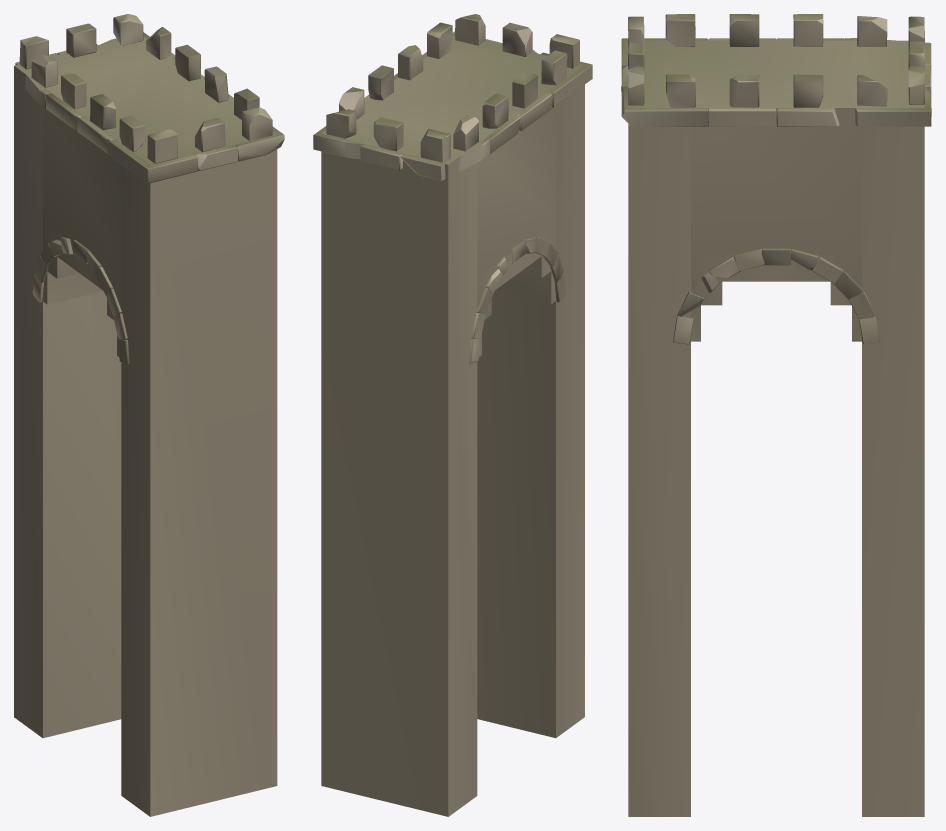
File: bridge_tower.glb
3 views of the same model, side by side, from view 1: azimuth 30°, elevation 25°; view 2: azimuth 150°, elevation 25°; view 3: azimuth 270°, elevation 25° (orthographic). The views are drawn at different scales.
Parts seen in each view (by area): view 1: bridge_tower_far, bridge_tower; view 2: bridge_tower_far, bridge_tower; view 3: bridge_tower_far, bridge_tower.
Boxes of the visible parts, box(x1,y1,x2,y2) form: bridge_tower_far: box(14, 36, 277, 816); bridge_tower: box(15, 14, 284, 364); bridge_tower_far: box(321, 36, 584, 816); bridge_tower: box(313, 14, 592, 364); bridge_tower_far: box(628, 40, 924, 816); bridge_tower: box(621, 14, 931, 344).
Bounding box in the file's own units: 15.19 × 71.2 × 27.19.
